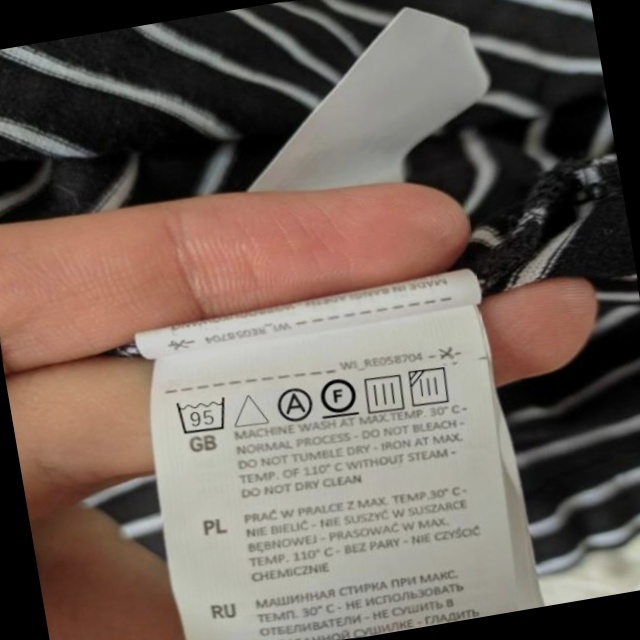95C: (172, 391, 233, 439)
bleach: (229, 386, 271, 433)
drip_dry: (359, 368, 409, 417)
drip_dry_in_shade: (406, 361, 457, 412)
dry_clean: (272, 383, 316, 426)
dry_clean_petrol_only: (316, 371, 362, 422)
